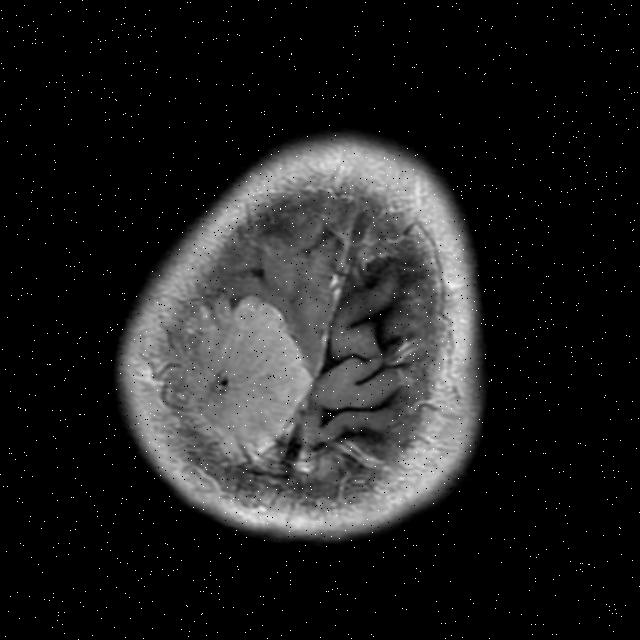Meningioma: (144, 280, 329, 478)
